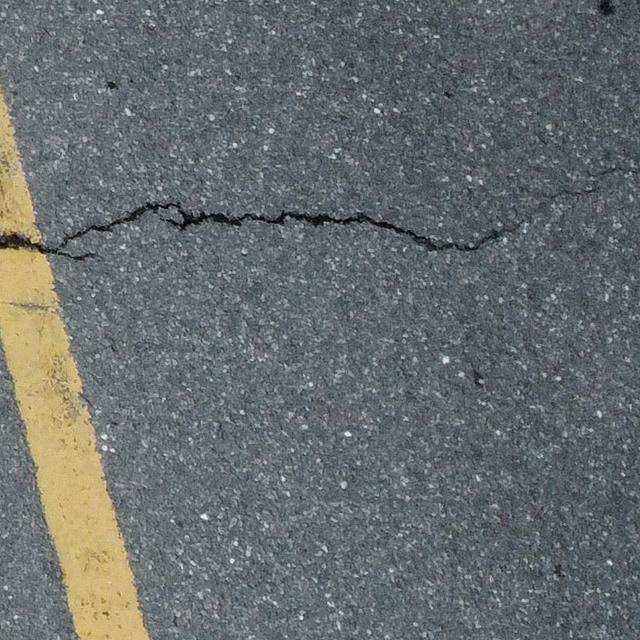TransverseCrack: (1, 187, 592, 262)
